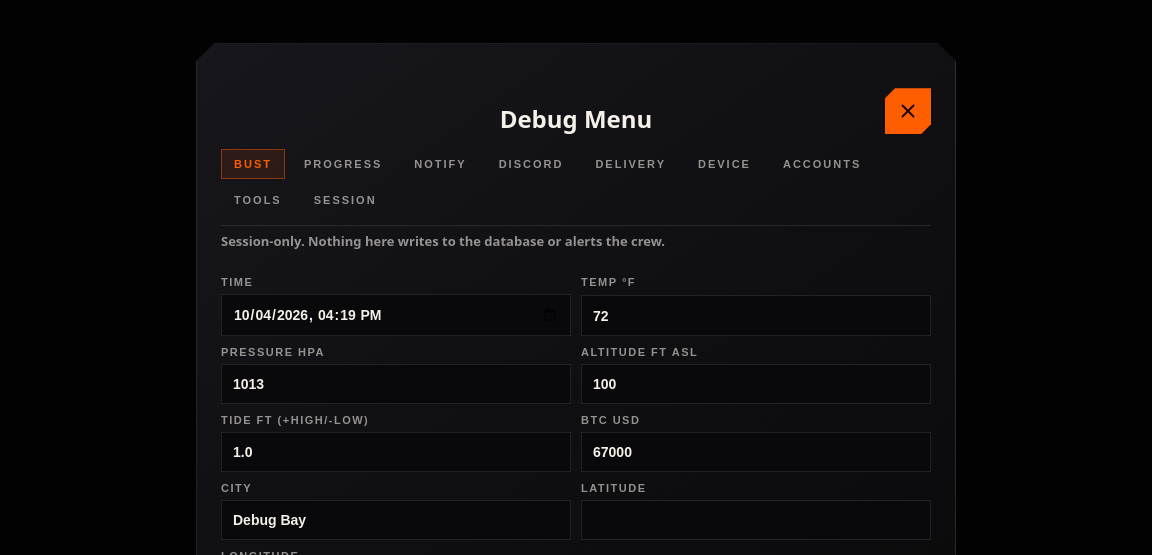
DebugMenu › browses achievements from the info button and inserts the picked id
This screenshot has width=1152, height=555.
Click the tab "NOTIFY": (440, 164) [401,149,480,179]
(page scrolled)
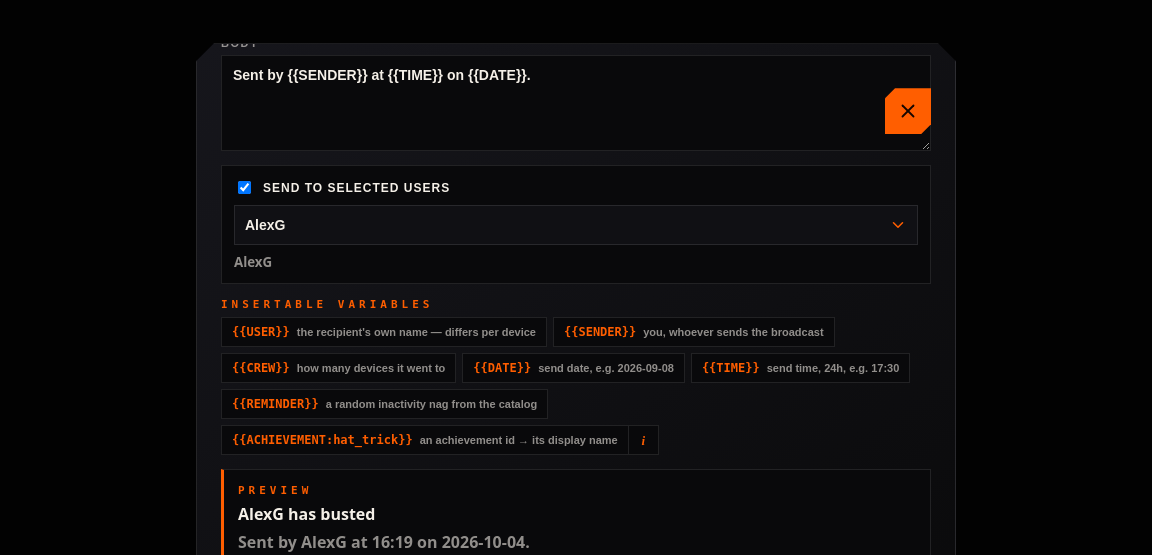
Click the button named "Browse every achievement": (644, 440) [629,425,659,455]
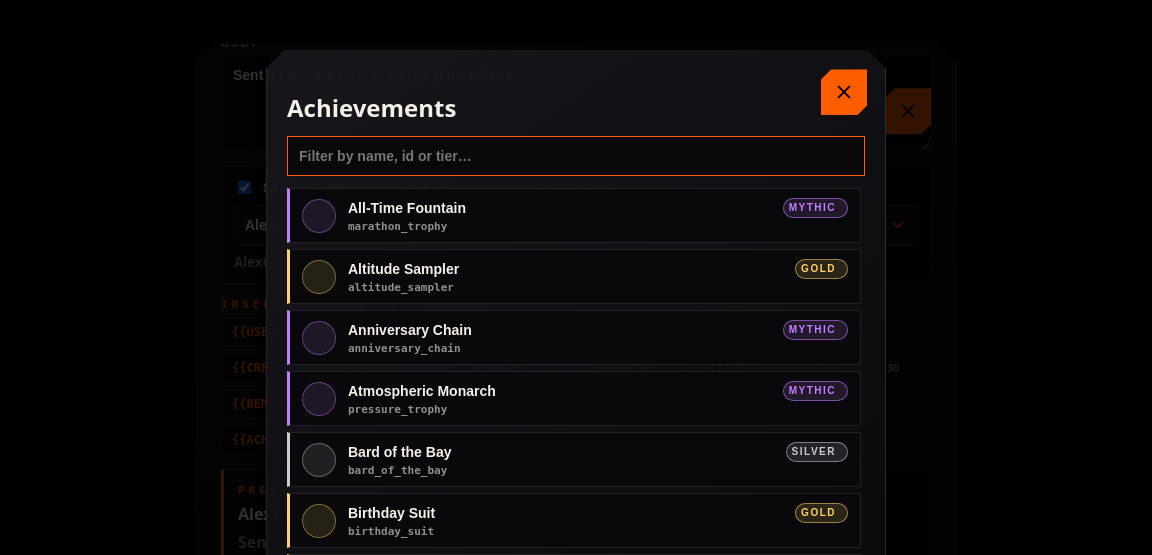
In the field with placeholder "Filter by name, id or tier…": (576, 156) [287,136,865,176], type "hat trick"
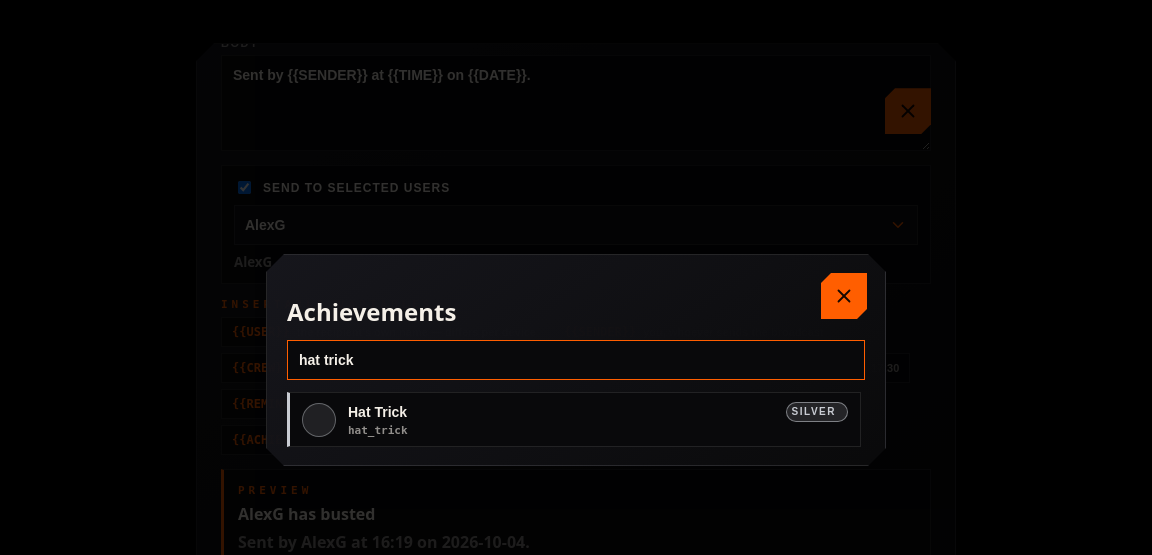
expect the number of buttons with class "ach-picker-row" is 1: met
Click the button with class "ach-picker-row": (319, 420) [287,392,861,447]
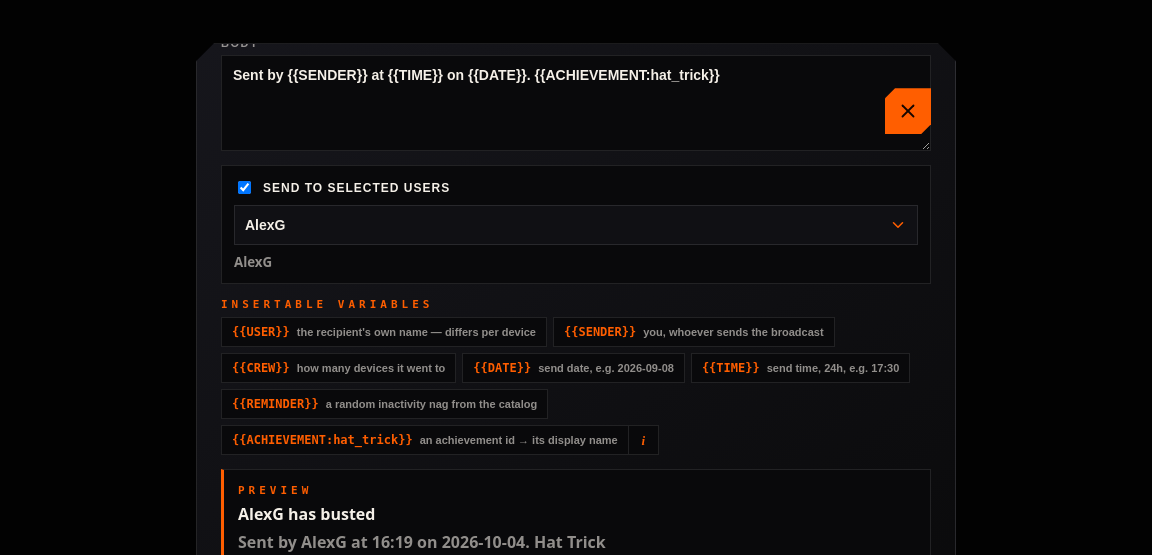
expect the element with class "ach-picker" is gone: met
